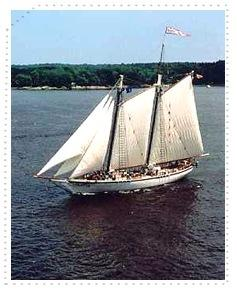Ship: (35, 27, 209, 192)
